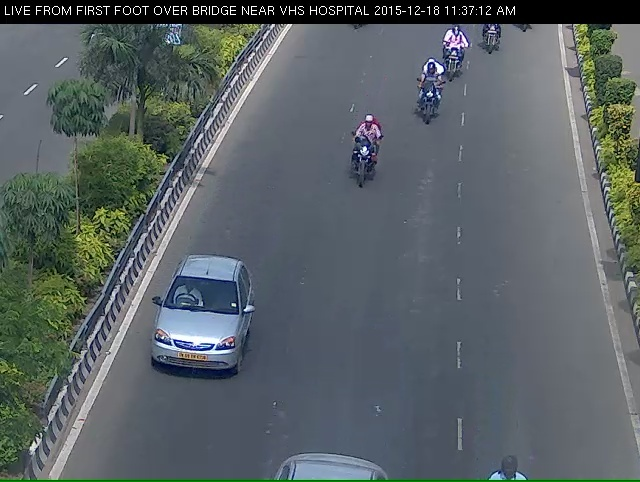Car: (132, 276, 263, 413)
Person: (409, 59, 441, 147), (344, 119, 377, 204), (440, 22, 466, 87), (477, 21, 508, 62)
